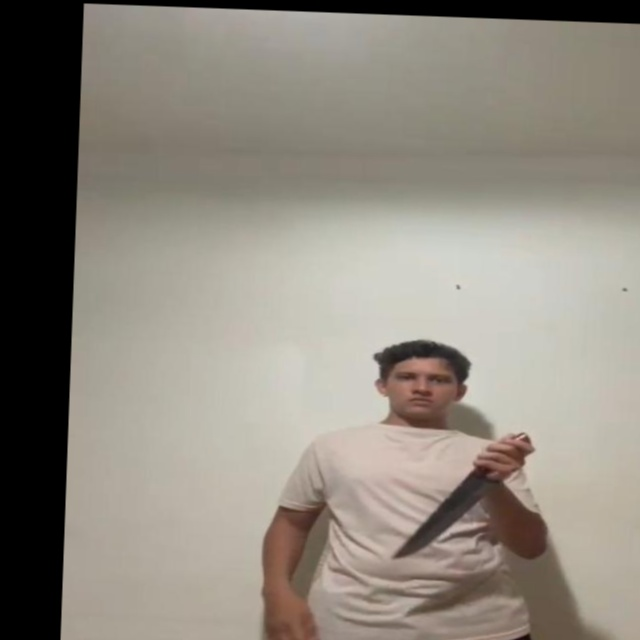Sharp-Object: (396, 471, 492, 559)
